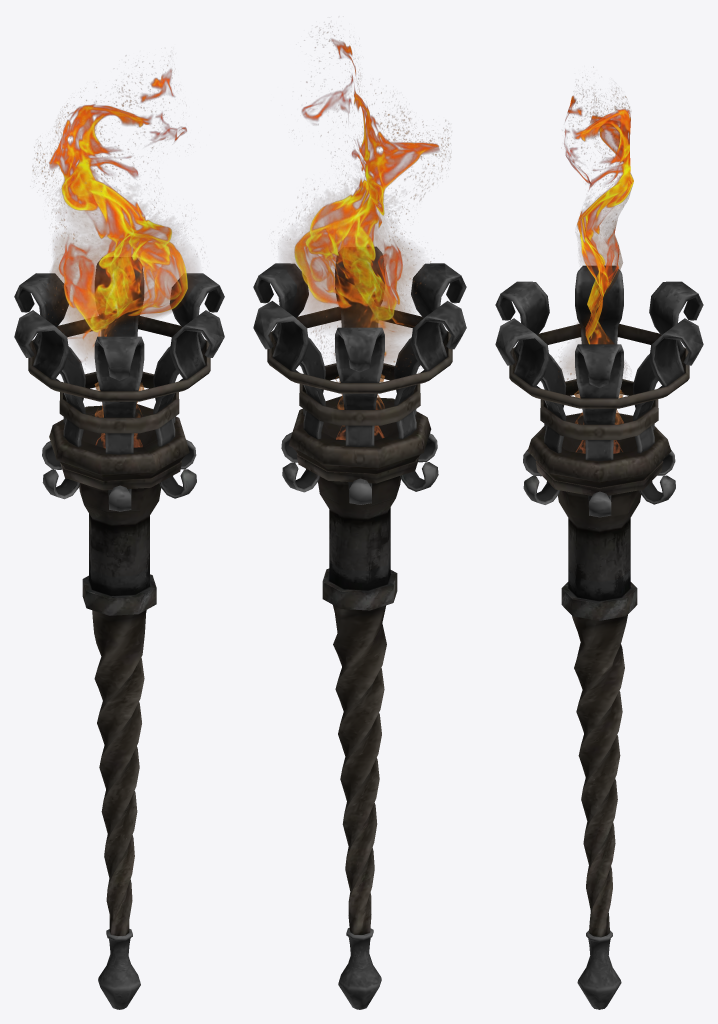
File: manor_torch_opt.glb
The picture shows the model from 3 angles, left to right: view 1: azimuth 30°, elevation 25°; view 2: azimuth 150°, elevation 25°; view 3: azimuth 270°, elevation 25°; orthographic projection. The views are drawn at different scales.
Parts seen in each view (by area): view 1: Object_3, Object_2; view 2: Object_3, Object_2; view 3: Object_3, Object_2.
Boxes of the visible parts, left/top/right/bottom form: Object_3: left=14, top=257, right=224, bottom=1009; Object_2: left=32, top=63, right=196, bottom=448; Object_3: left=253, top=246, right=466, bottom=1009; Object_2: left=278, top=23, right=450, bottom=439; Object_3: left=495, top=265, right=703, bottom=1009; Object_2: left=557, top=84, right=633, bottom=453.
Size of the model in its own units: 19.22 by 88.87 by 17.6.
Materials: 2 (2 with a texture image).
